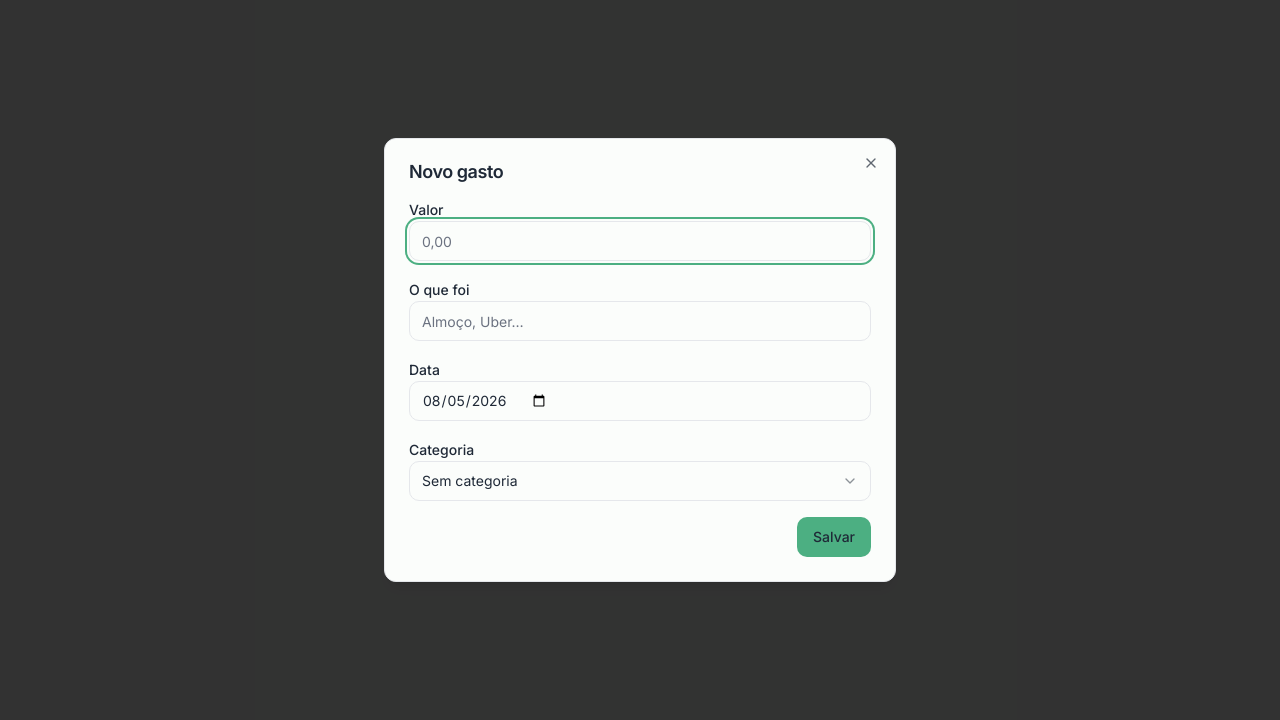
ExpenseFormDialog › não envia nada quando o valor está vazio
Click the button "Salvar": point(834, 537) 797,517 -> 871,557
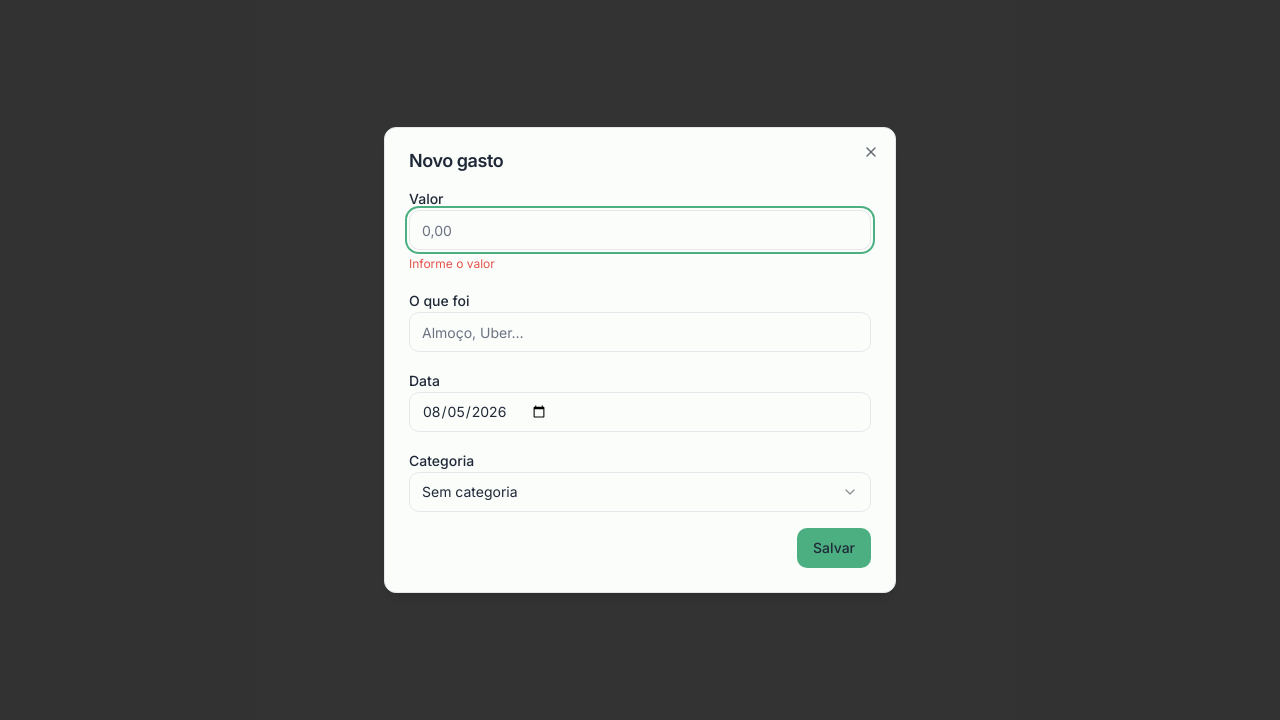
Expected: the text "Informe o valor" is shown, 409,256 -> 495,271
